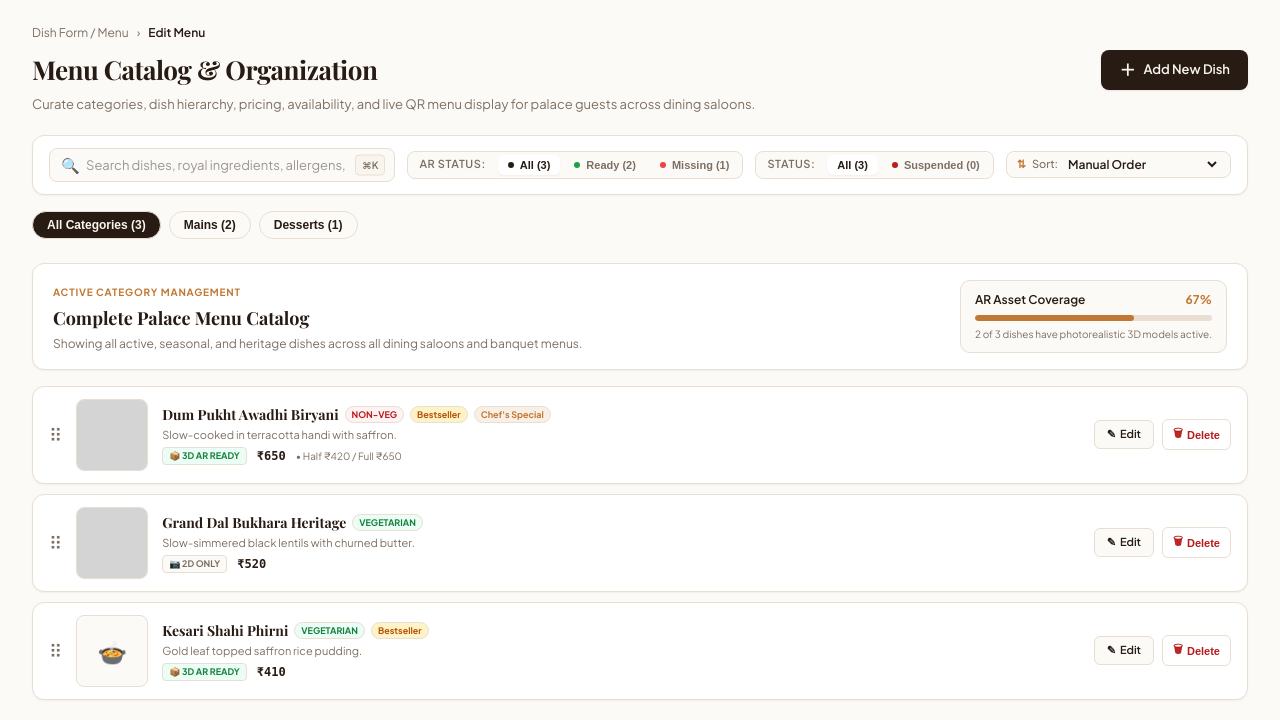
Test case: MenuCatalog Component Suite › Filters dishes using the search input
The width and height of the screenshot is (1280, 720).
Expected: the heading "Dum Pukht Awadhi Biryani" is shown, top-left (162, 404), bottom-right (339, 425)
Type "Bukhara" into the field with placeholder "Search dishes, royal ingredients, allergens, or tags..." at (222, 164), box top-left (49, 148), bottom-right (395, 182)
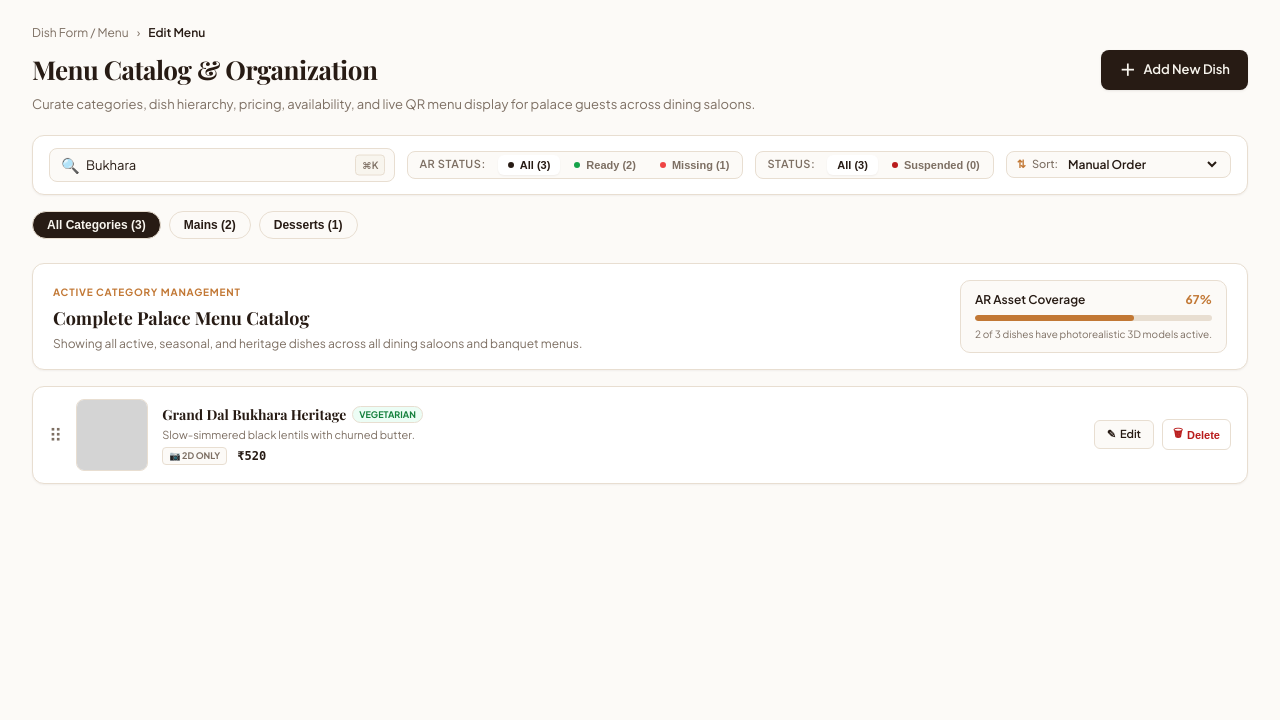
Expected: the heading "Grand Dal Bukhara Heritage" is shown, top-left (162, 404), bottom-right (346, 425)
Now the heading "Dum Pukht Awadhi Biryani" is gone
Now the heading "Kesari Shahi Phirni" is gone
